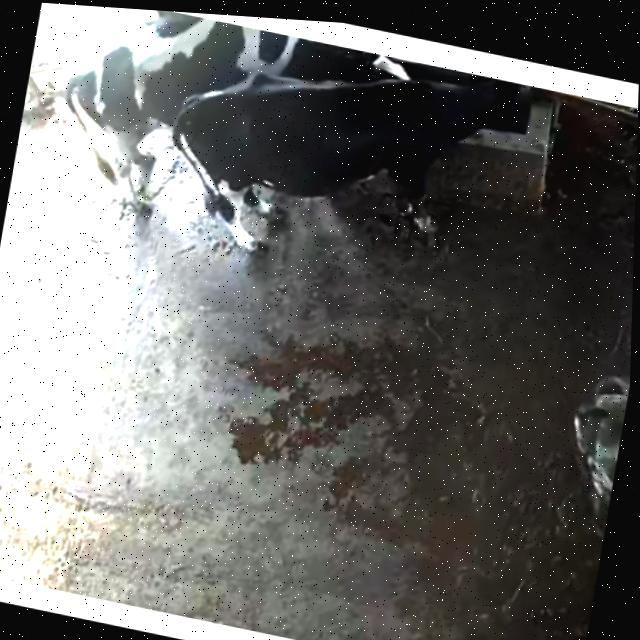drink: (376, 55, 550, 195), (234, 25, 421, 116)
